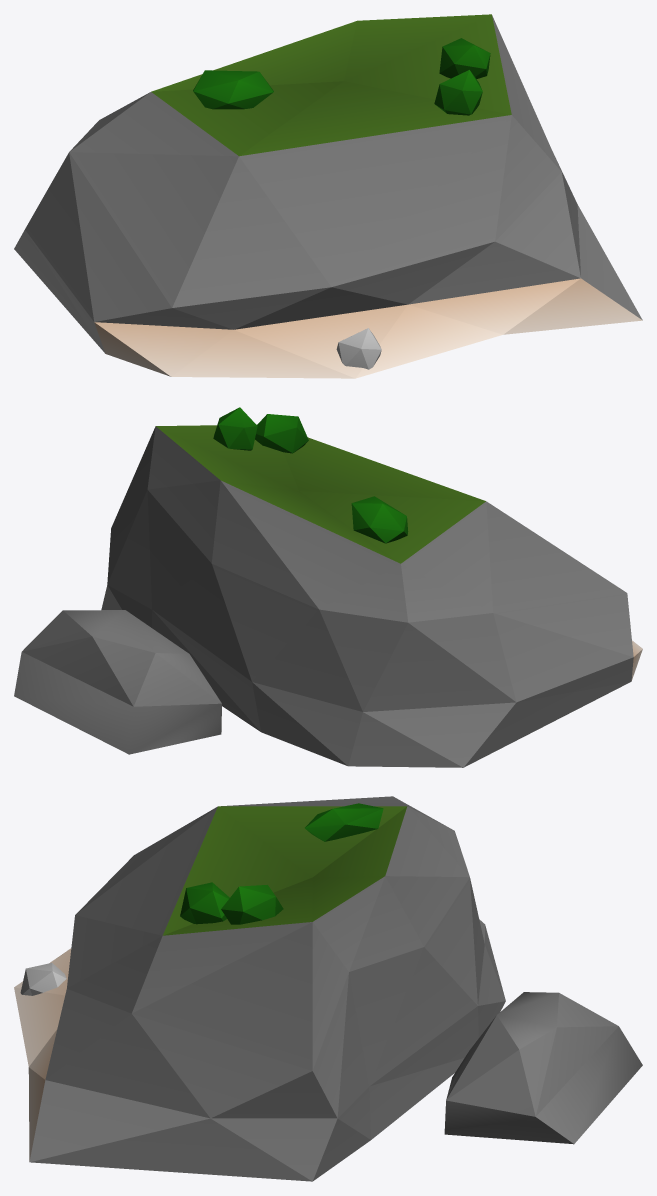
Rendered from rock3.glb.
3 views of the same model, one above another, from view 1: azimuth 30°, elevation 25°; view 2: azimuth 150°, elevation 25°; view 3: azimuth 270°, elevation 25° (orthographic). The views are drawn at different scales.
Visible parts, largest first — view 1: rock3; view 2: rock3; view 3: rock3.
Boxes of the visible parts, bbox=[...] form: rock3: bbox=[14, 14, 642, 378]; rock3: bbox=[14, 407, 642, 767]; rock3: bbox=[14, 796, 642, 1181].
Bounding box in the file's own units: 1.01 × 0.4261 × 1.02.
Materials: 5 (5 with a texture image).
